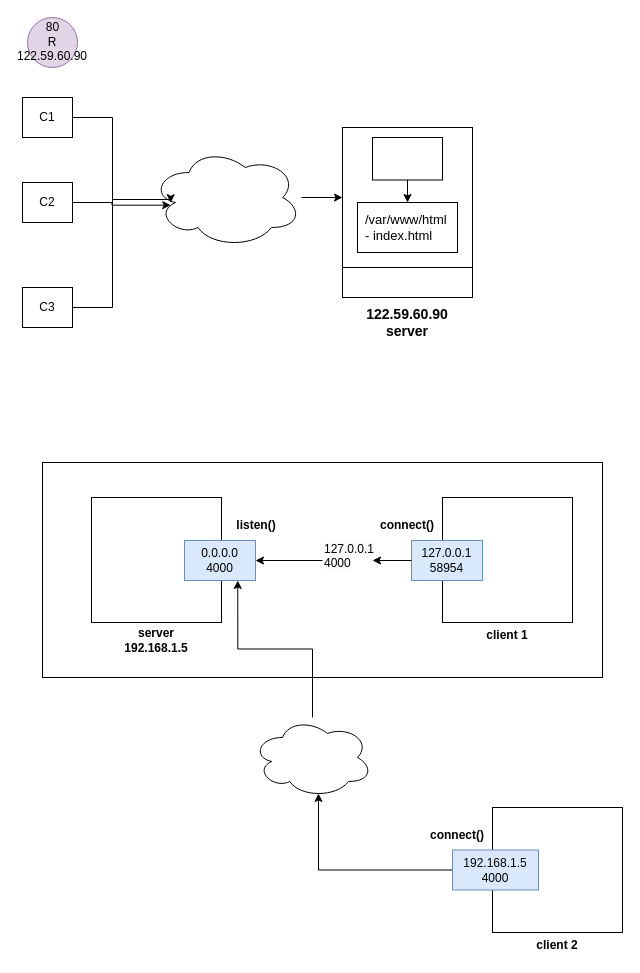
Image size: 640x973. Some labels were removed from this diagram. Each missing label, with the centre of its shape:
internet: the point at 226,197
OS: the point at 407,282
web server (80): the point at 407,158
